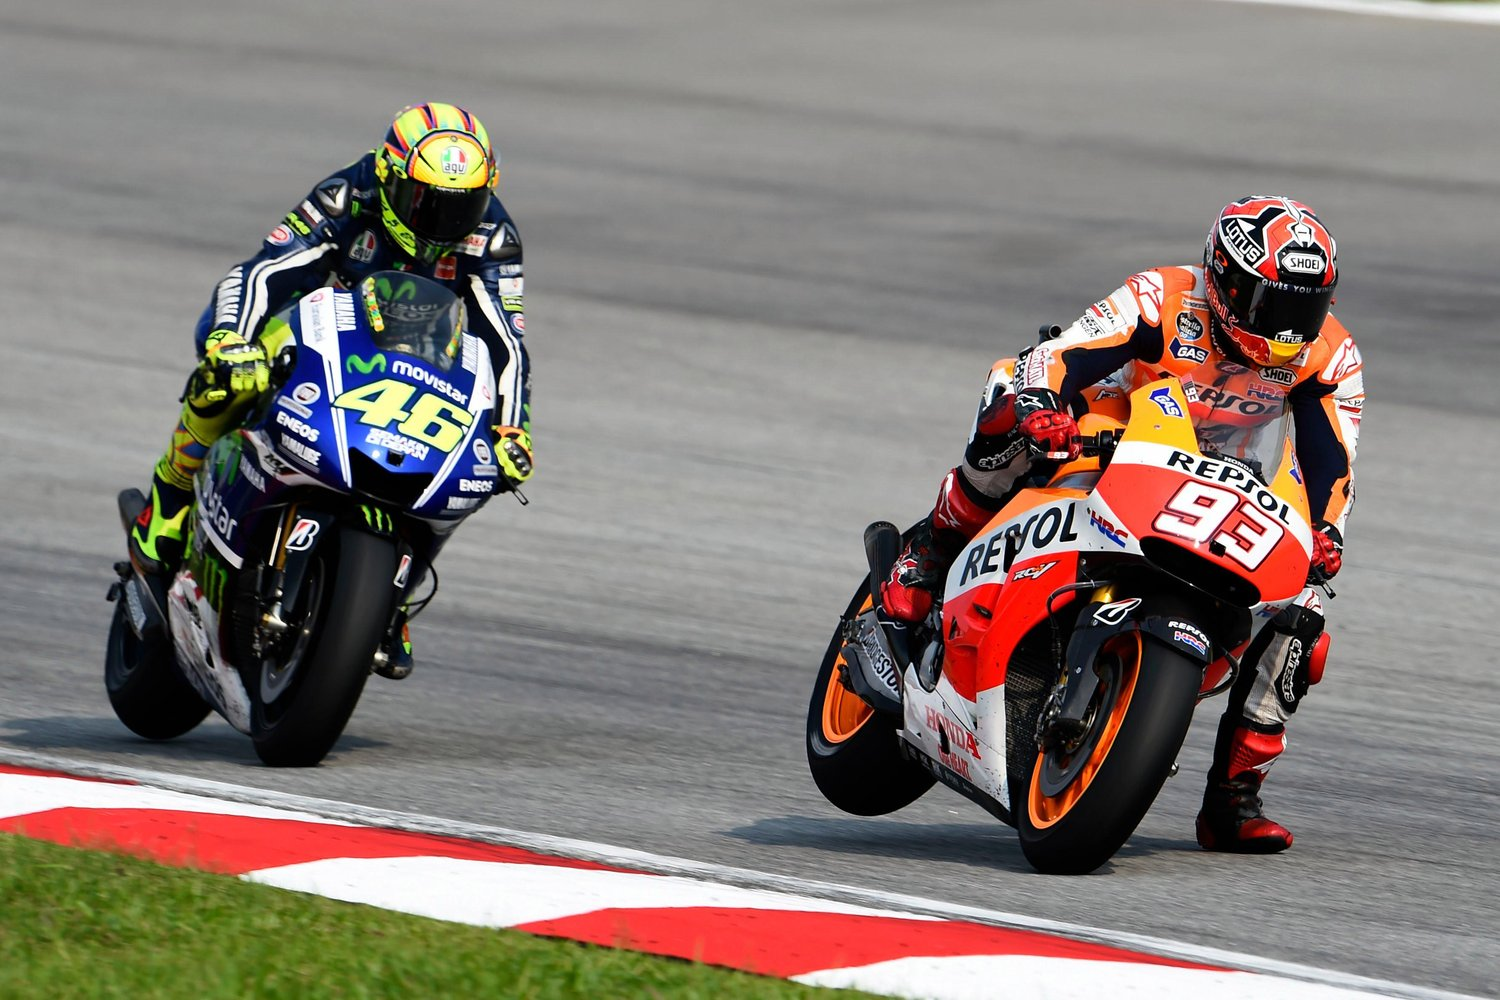helmet: (1227, 192, 1339, 356), (386, 110, 498, 275)
